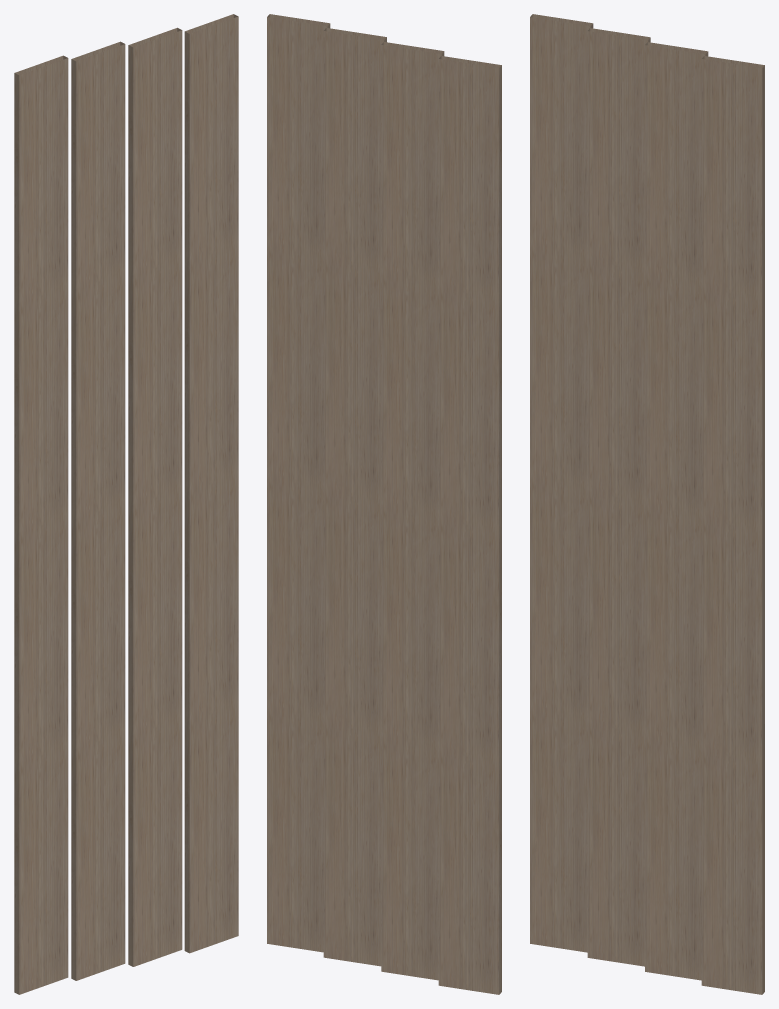
3 views of the same model, side by side, from view 1: azimuth 30°, elevation 25°; view 2: azimuth 150°, elevation 25°; view 3: azimuth 330°, elevation 25° (orthographic).
Visible parts, largest first — view 1: M_W_002_m_2x8; view 2: M_W_002_m_2x8; view 3: M_W_002_m_2x8.
Boxes of the visible parts, x1,y1,x2,y2 form: M_W_002_m_2x8: [14, 14, 238, 994]; M_W_002_m_2x8: [267, 14, 501, 994]; M_W_002_m_2x8: [530, 14, 764, 994].
Bounding box in the file's own units: 2.06 × 8 × 0.1466.
